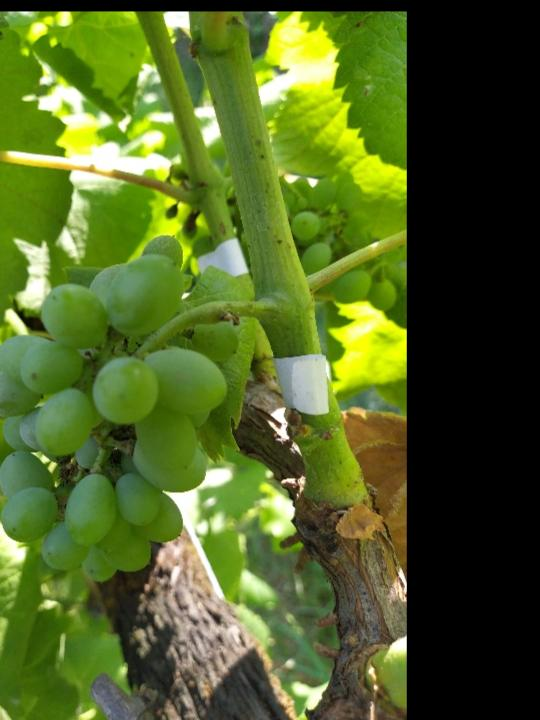grape: (0, 232, 241, 589)
